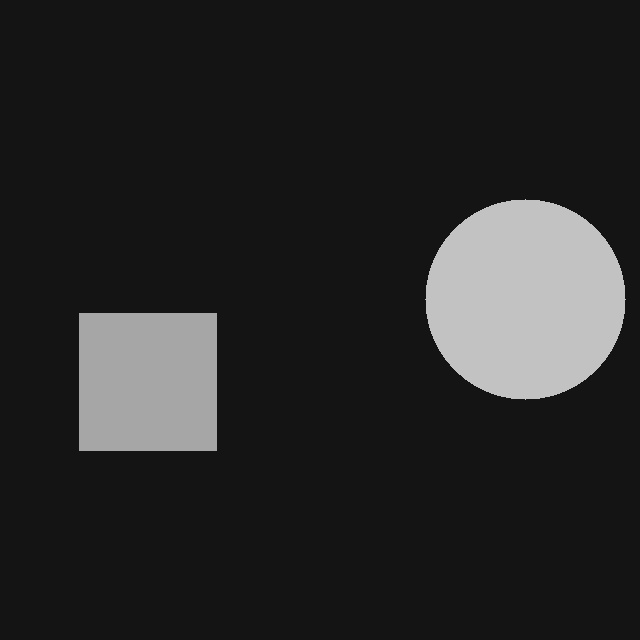circle: (425, 199, 625, 399)
square: (79, 313, 216, 450)
